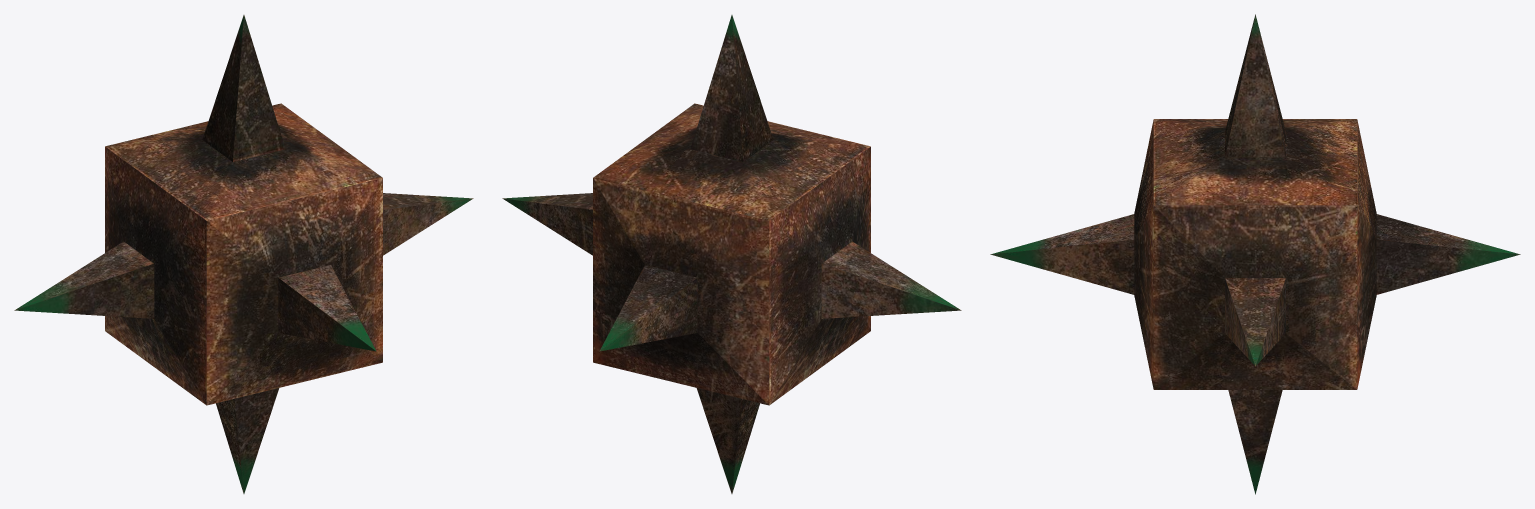
The model's file is pinche.fbx.
3 renders of one model, left to right at view 1: azimuth 30°, elevation 25°; view 2: azimuth 150°, elevation 25°; view 3: azimuth 270°, elevation 25°, orthographic.
Parts seen in each view (by area): view 1: Pinche; view 2: Pinche; view 3: Pinche.
Boxes of the visible parts, box(x1,y1,x2,y2) form: Pinche: box(14, 15, 473, 493); Pinche: box(502, 15, 961, 493); Pinche: box(990, 14, 1520, 494).
Bounding box in the file's own units: 705 × 705 × 705.
Materials: 1 (1 with a texture image).
